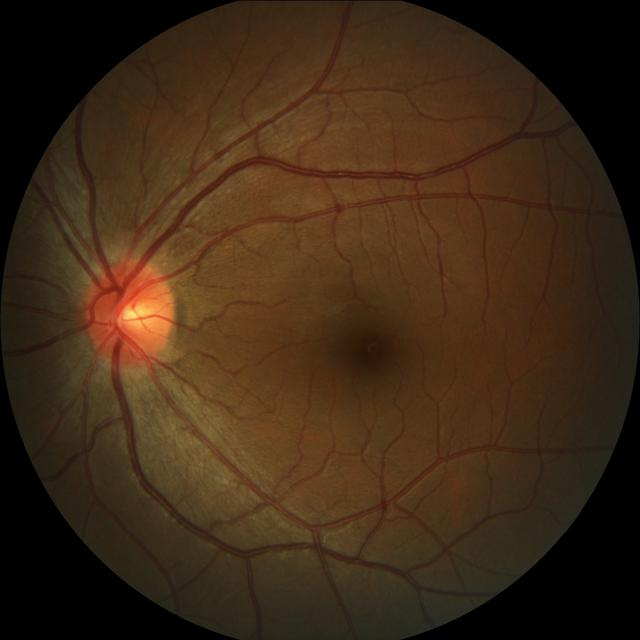OC: (111, 290, 153, 336)
OD: (82, 259, 175, 367)
